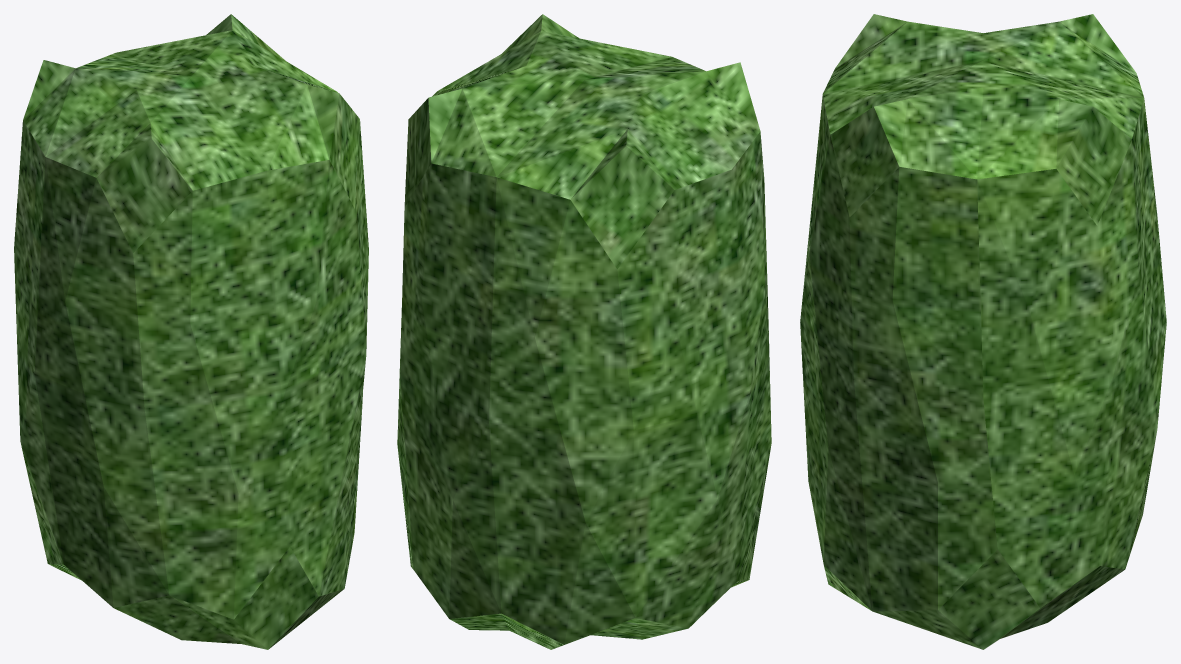
The model's file is barrel.obj.
The picture shows the model from 3 angles, left to right: view 1: azimuth 30°, elevation 25°; view 2: azimuth 150°, elevation 25°; view 3: azimuth 270°, elevation 25°; orthographic projection. The views are drawn at different scales.
Parts seen in each view (by area): view 1: Cube_Cube.001; view 2: Cube_Cube.001; view 3: Cube_Cube.001.
Boxes of the visible parts, left/top/right/bottom form: Cube_Cube.001: left=14, top=14, right=368, bottom=649; Cube_Cube.001: left=397, top=14, right=771, bottom=649; Cube_Cube.001: left=800, top=14, right=1166, bottom=649.
Size of the model in its own units: 1.9 by 3 by 1.9.
